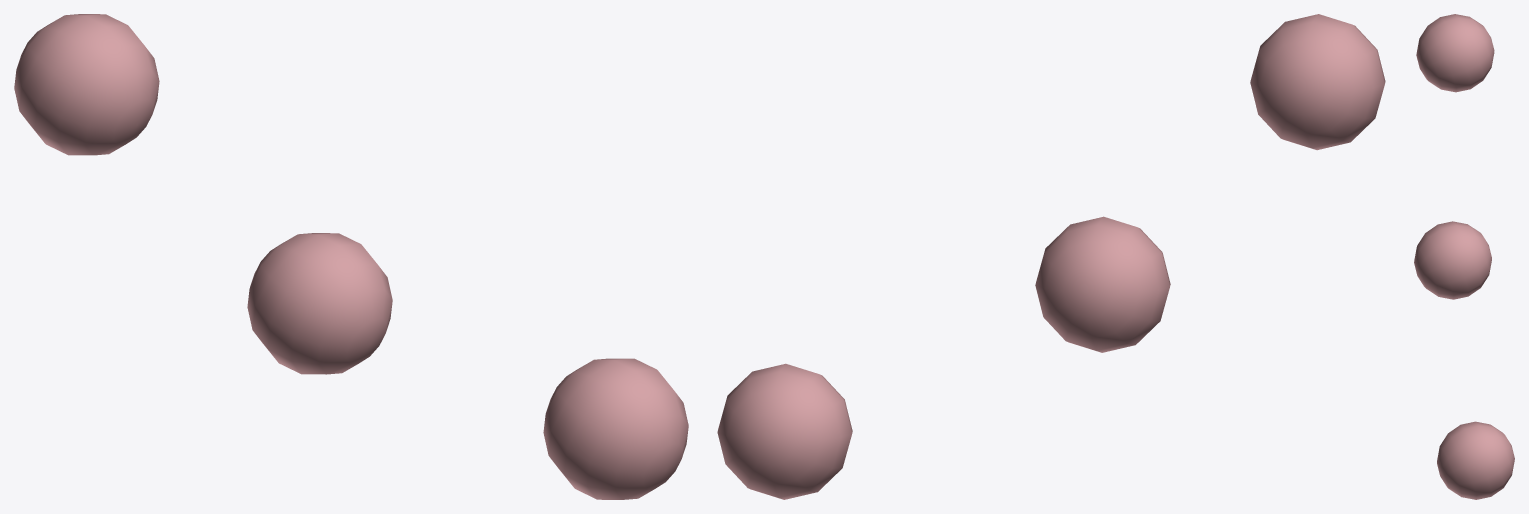
3 renders of one model, left to right at view 1: azimuth 30°, elevation 25°; view 2: azimuth 150°, elevation 25°; view 3: azimuth 270°, elevation 25°, orthographic. The views are drawn at different scales.
Visible parts, largest first — view 1: ZA_344de6ca0f86f5bf; view 2: ZA_344de6ca0f86f5bf; view 3: ZA_344de6ca0f86f5bf.
Part boxes in pixels (bbox=[...]): ZA_344de6ca0f86f5bf: bbox=[14, 14, 688, 499]; ZA_344de6ca0f86f5bf: bbox=[717, 14, 1385, 499]; ZA_344de6ca0f86f5bf: bbox=[1414, 14, 1514, 499].
Size of the model in its own units: 0.0138 by 0.0122 by 0.00334.
